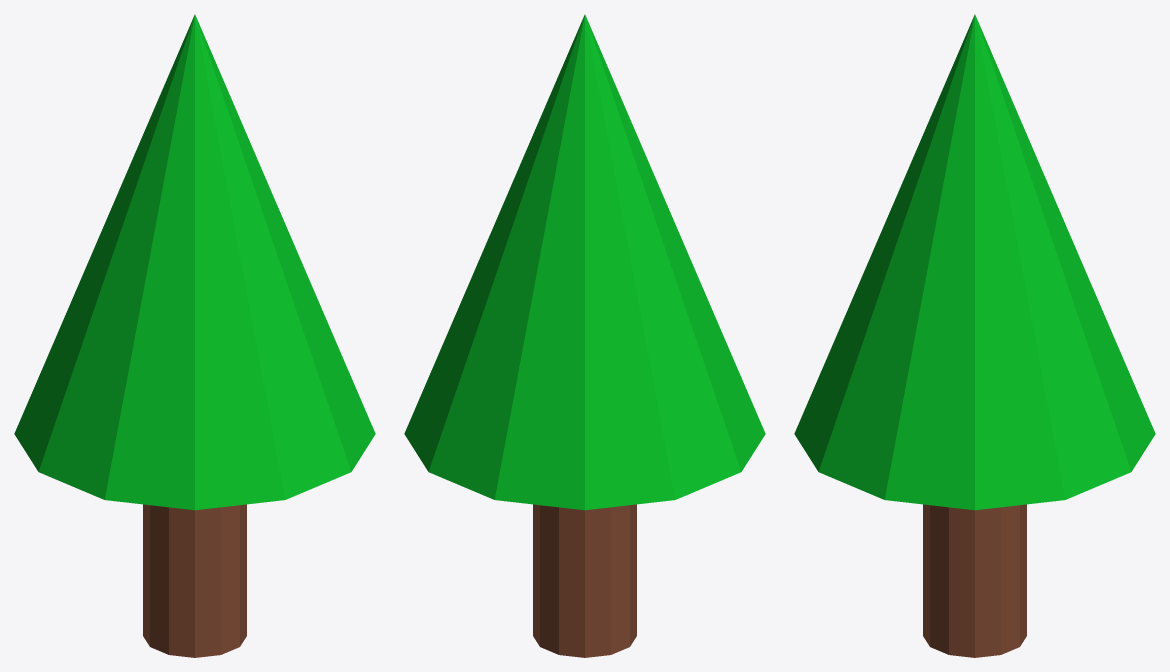
Rendered from tree.fbx.
3 renders of one model, left to right at view 1: azimuth 30°, elevation 25°; view 2: azimuth 150°, elevation 25°; view 3: azimuth 270°, elevation 25°, orthographic.
Parts seen in each view (by area): view 1: Cylinder; view 2: Cylinder; view 3: Cylinder.
Part boxes in pixels (<box>): Cylinder: <box>14,14,375,657</box>; Cylinder: <box>404,14,765,657</box>; Cylinder: <box>794,14,1155,657</box>.
Bounding box in the file's own units: 3.77 × 7.16 × 3.77.
Materials: 1 (1 with a texture image).
